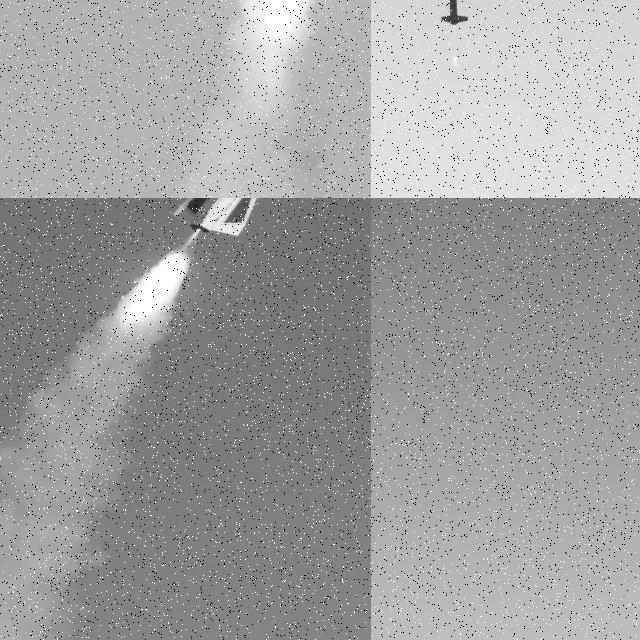Rocket: (169, 198, 319, 237)
